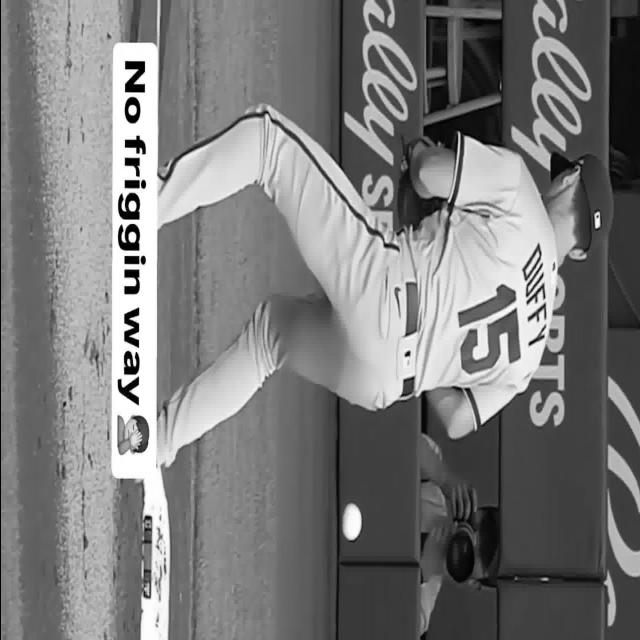base: (140, 467, 170, 640)
baseball: (341, 502, 361, 542)
baseball_glove: (398, 171, 442, 229)
